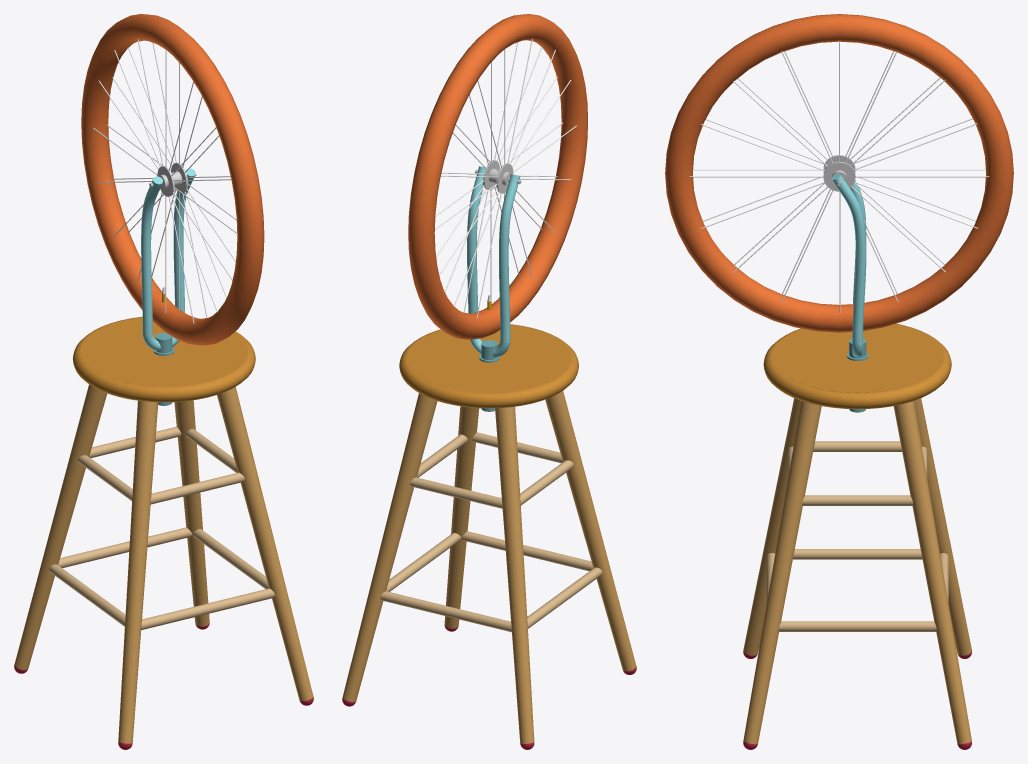
The model's file is stool.gltf.
The picture shows the model from 3 angles, left to right: view 1: azimuth 30°, elevation 25°; view 2: azimuth 150°, elevation 25°; view 3: azimuth 270°, elevation 25°; orthographic projection. The views are drawn at different scales.
Parts seen in each view (by area): view 1: tire, stoolTop, leg2, leg1, leg4, stoolTopEdge, leg3, forkTubeL, bottomStrut3, bottomStrut4, forkTubeR, topStrut3 (+5 smaller); view 2: tire, stoolTop, leg4, leg3, leg2, stoolTopEdge, leg1, forkTubeL, bottomStrut4, forkTubeR, bottomStrut3, topStrut4 (+5 smaller); view 3: tire, stoolTop, leg1, leg3, stoolTopEdge, leg4, leg2, forkTubeR, bottomStrut2, bottomStrut1, topStrut2, topStrut1.
Boxes of the visible parts, bbox=[...] form: tire: bbox=[81, 14, 264, 345]; stoolTop: bbox=[81, 317, 246, 386]; leg2: bbox=[118, 400, 158, 743]; leg1: bbox=[217, 387, 313, 701]; leg4: bbox=[14, 384, 107, 669]; stoolTopEdge: bbox=[73, 316, 255, 402]; leg3: bbox=[174, 400, 209, 626]; forkTubeL: bbox=[141, 180, 162, 334]; bottomStrut3: bbox=[141, 588, 274, 629]; bottomStrut4: bbox=[58, 527, 192, 568]; forkTubeR: bbox=[173, 174, 194, 312]; topStrut3: bbox=[150, 472, 244, 504]; tire: bbox=[408, 14, 587, 339]; stoolTop: bbox=[408, 325, 570, 392]; leg4: bbox=[495, 406, 534, 743]; leg3: bbox=[342, 393, 437, 702]; leg2: bbox=[545, 391, 636, 671]; stoolTopEdge: bbox=[399, 324, 578, 408]; leg1: bbox=[444, 406, 479, 628]; forkTubeL: bbox=[499, 174, 520, 342]; bottomStrut4: bbox=[380, 591, 511, 632]; forkTubeR: bbox=[467, 166, 485, 313]; bottomStrut3: bbox=[461, 531, 593, 571]; topStrut4: bbox=[410, 477, 502, 508]; tire: bbox=[665, 14, 1013, 332]; stoolTop: bbox=[772, 324, 943, 392]; leg1: bbox=[743, 401, 821, 744]; leg3: bbox=[893, 401, 971, 744]; stoolTopEdge: bbox=[763, 323, 951, 409]; leg4: bbox=[914, 398, 971, 655]; leg2: bbox=[743, 398, 801, 655]; forkTubeR: bbox=[832, 175, 866, 343]; bottomStrut2: bbox=[778, 621, 936, 631]; bottomStrut1: bbox=[793, 549, 922, 559]; topStrut2: bbox=[802, 495, 913, 505]; topStrut1: bbox=[813, 441, 902, 451].
Bounding box in the file's own units: 2.15 × 7.1 × 3.26.
